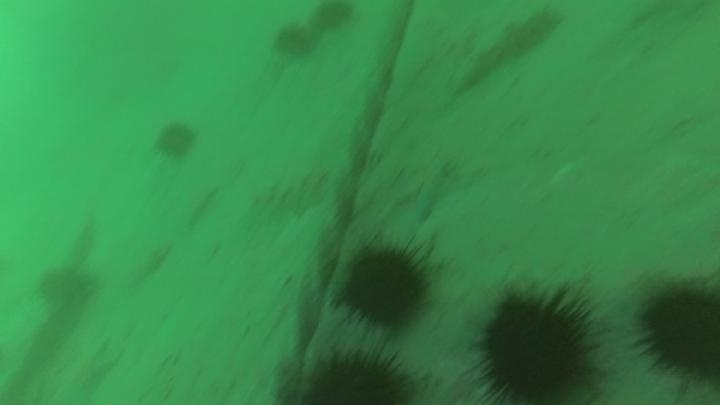echinus: (469, 283, 604, 404), (636, 279, 720, 385), (340, 241, 432, 332), (296, 345, 417, 404), (37, 263, 96, 312), (152, 118, 200, 163), (271, 21, 320, 61), (310, 1, 358, 35)
holothurian: (451, 5, 563, 94), (128, 240, 175, 287)
starfish: (48, 338, 120, 405), (373, 181, 436, 248)
